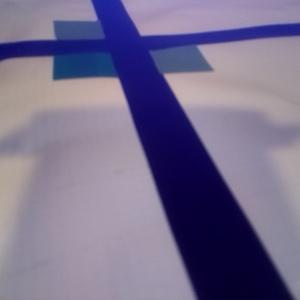bottom_left: (53, 39, 149, 79)
bottom_right: (116, 35, 213, 73)
top_left: (54, 21, 133, 52)
